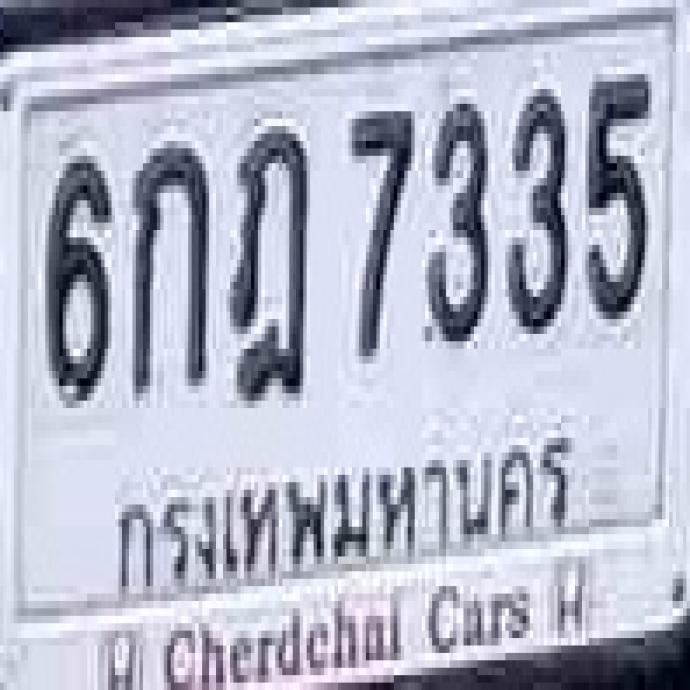3: (423, 97, 486, 338), (506, 83, 565, 328)
5: (584, 67, 646, 313)
6: (43, 149, 107, 395)
7: (348, 103, 410, 353)
A01: (130, 137, 205, 386)
A14: (228, 120, 306, 397)
BKK: (106, 423, 583, 588)
